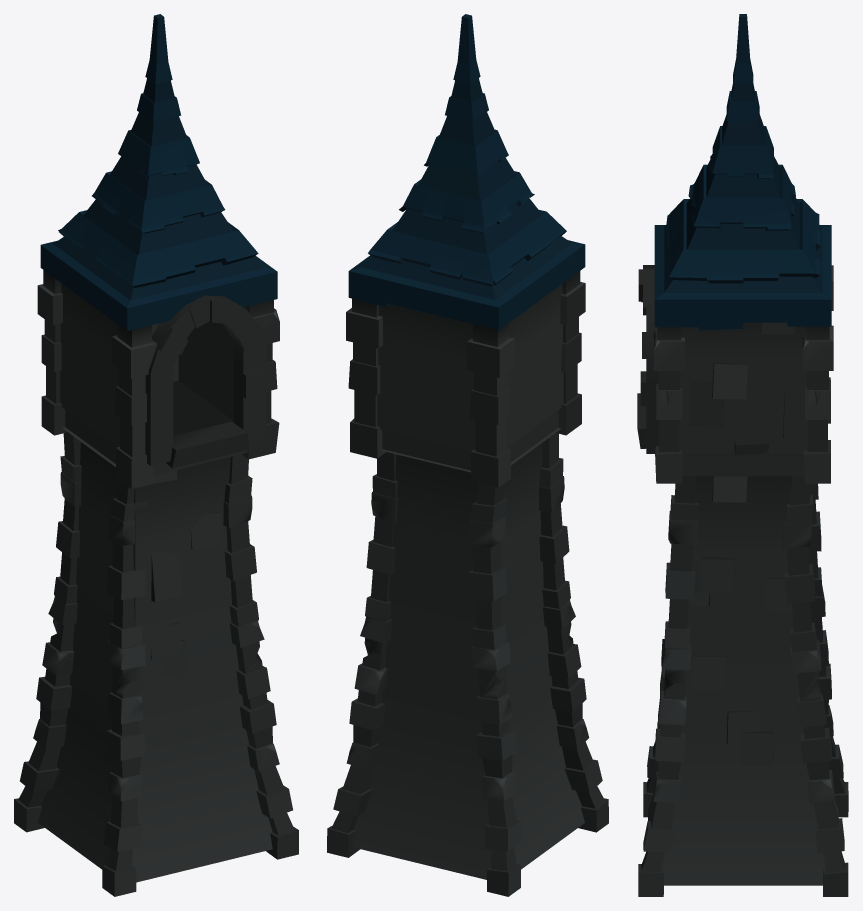
Rendered from Castle.fbx.
3 renders of one model, left to right at view 1: azimuth 30°, elevation 25°; view 2: azimuth 150°, elevation 25°; view 3: azimuth 270°, elevation 25°, orthographic. The views are drawn at different scales.
Visible parts, largest first — view 1: polySurface23, polySurface22; view 2: polySurface23, polySurface22; view 3: polySurface23, polySurface22.
Boxes of the visible parts, left/top/right/bottom form: polySurface23: left=14, top=431, right=298, bottom=896; polySurface22: left=37, top=14, right=279, bottom=488; polySurface23: left=327, top=433, right=608, bottom=896; polySurface22: left=346, top=14, right=585, bottom=487; polySurface23: left=638, top=476, right=848, bottom=896; polySurface22: left=637, top=14, right=833, bottom=483.
Bounding box in the file's own units: 11.8 × 50.96 × 11.65.
